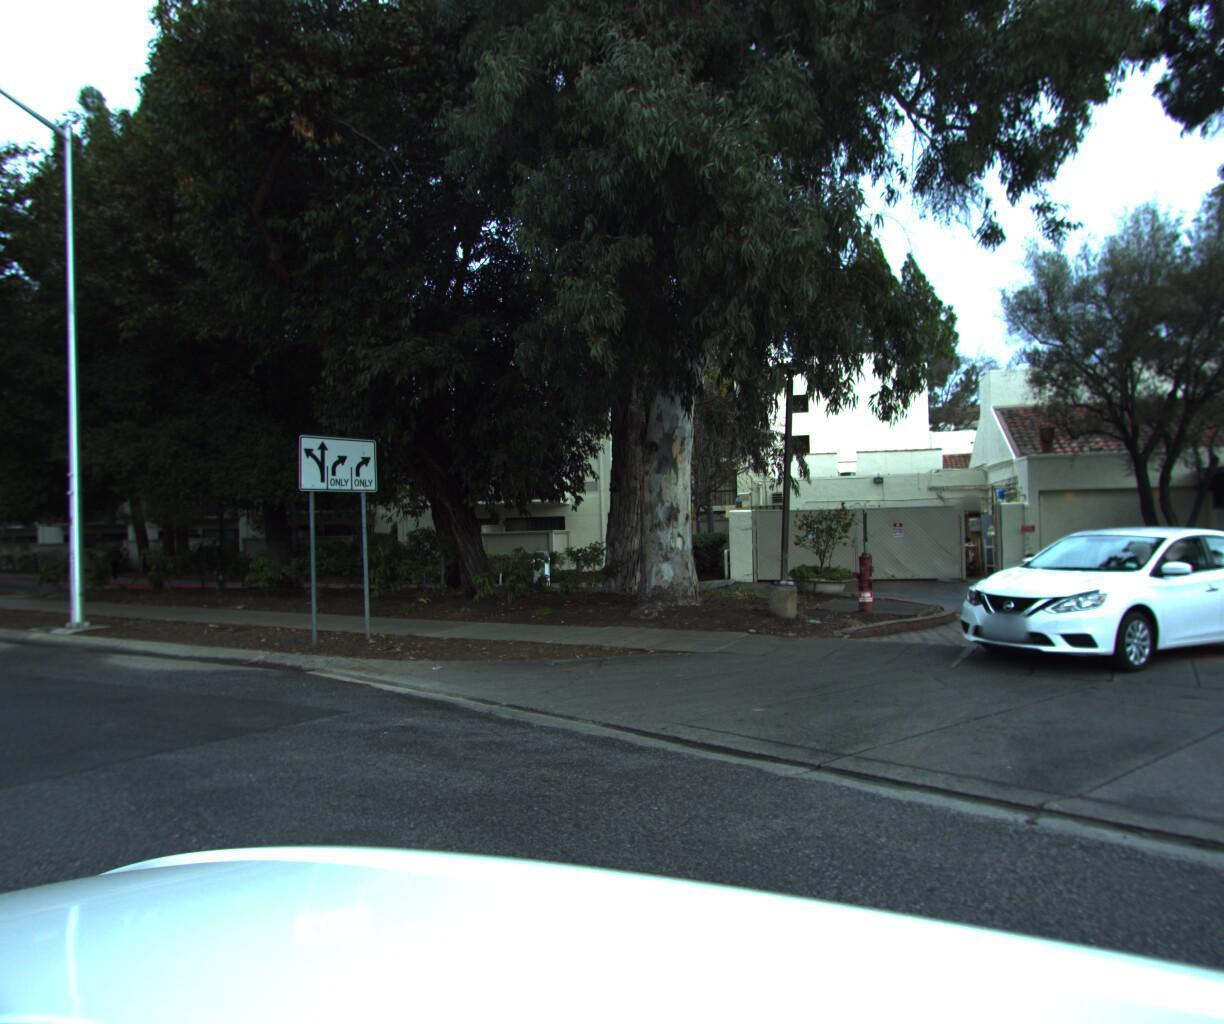car: (929, 516, 1224, 699)
